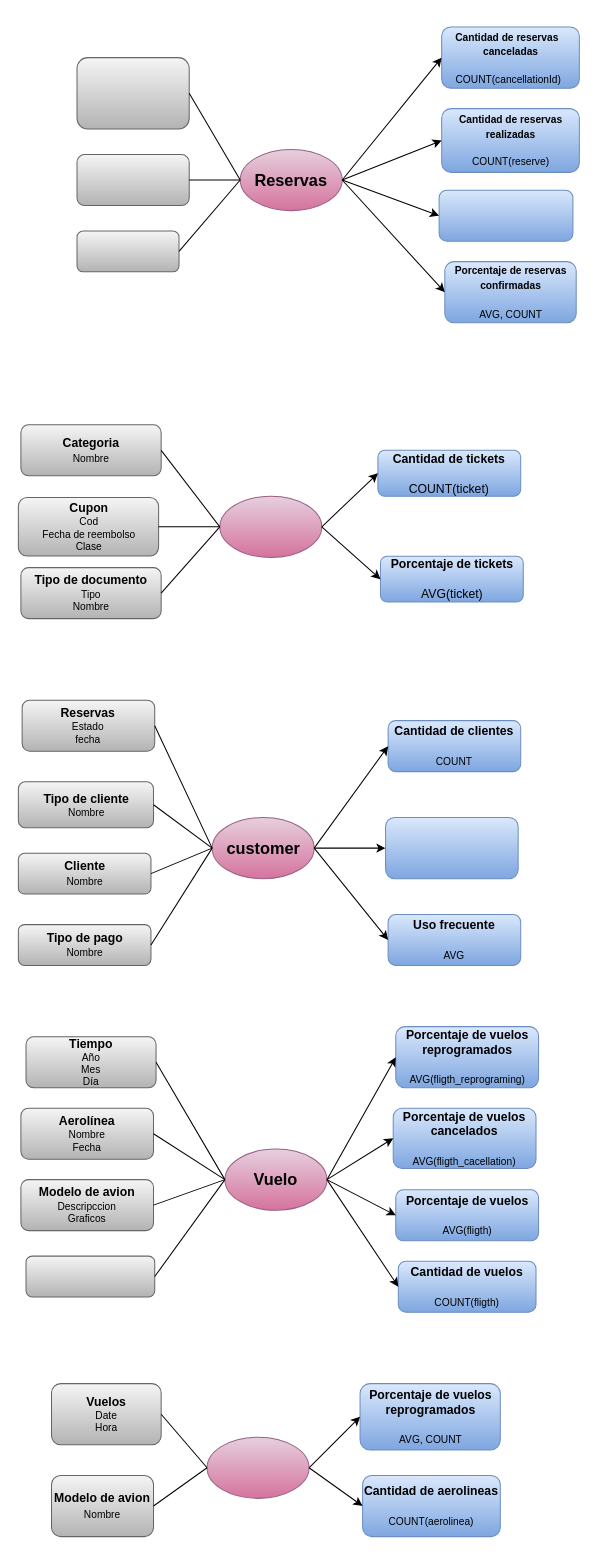
This 597x1554 diagram has some shape labels left out. Here are the shapes that lost their labels. From the top down, the centre of each, then its label:
the point at 132,93: Tiempo Año Mes Semanas Días
the point at 132,180: Cliente Nombre CI Tipo
the point at 505,215: Porcentaje de reservas AVG(reserve)
the point at 127,251: pago Nombre Tipo
the point at 270,526: ticket
the point at 451,848: Cantidad de reservas canceladas COUNT
the point at 90,1276: Aeropuerto Nombre
the point at 257,1467: Aerolinea
